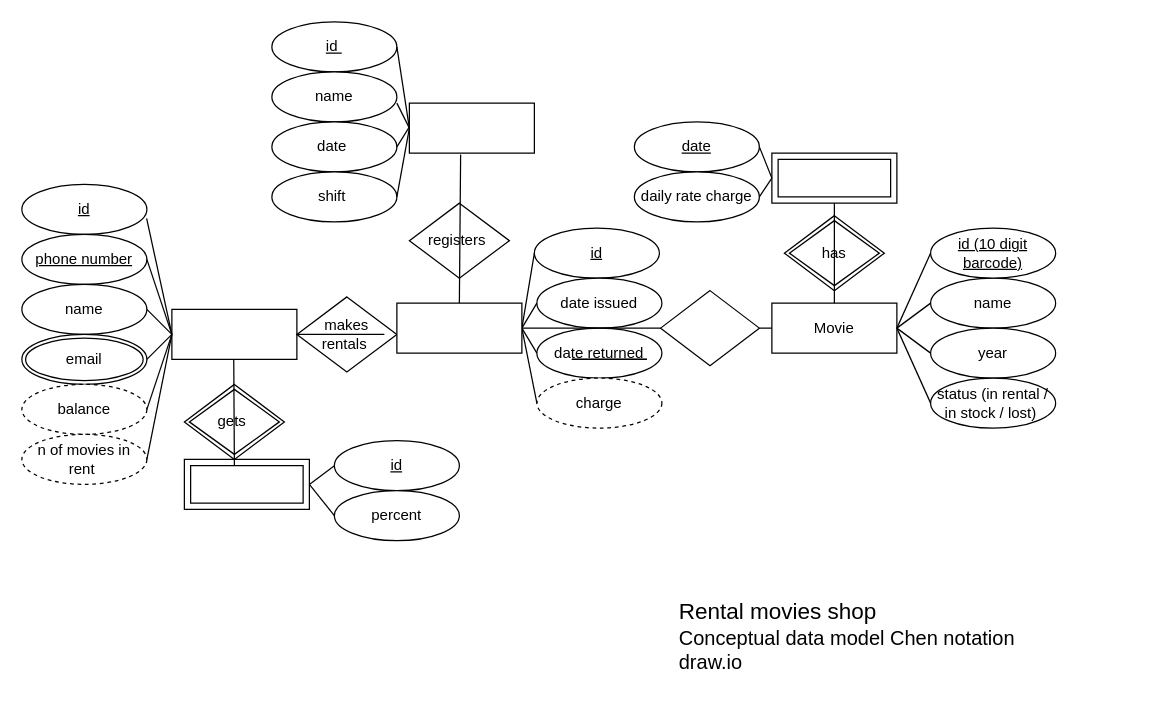
The diagram is 1156 pixels wide and 704 high, and some of its shapes have lost their labels. Here are the shapes that lost their labels. From the top down, the centre of each, then its label:
At point (471, 127): "Employee".
At point (834, 177): "Rental rate".
At point (234, 333): "Customer".
At point (459, 327): "Rental".
At point (709, 327): "includes".
At point (246, 483): "Coupon".
